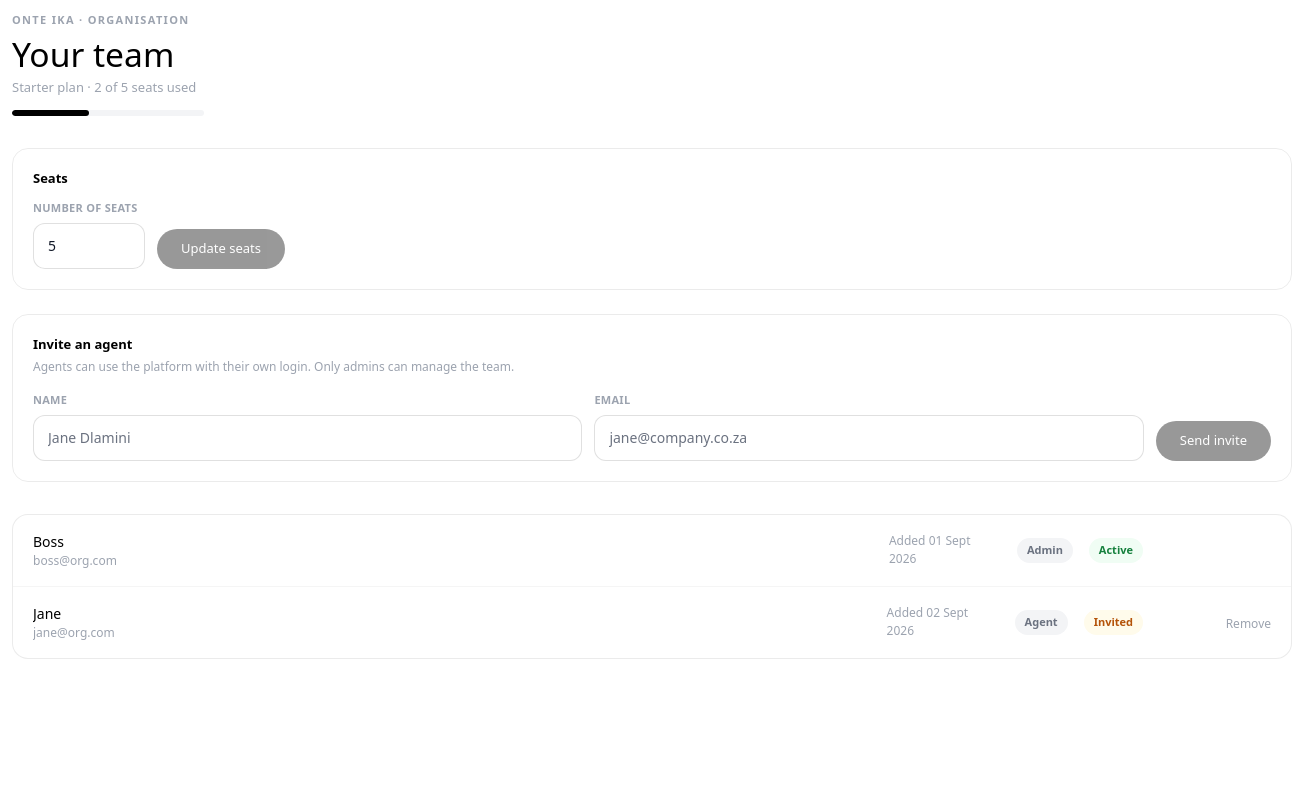
it: Team page › on the paid plan › shows the server's reason when a seat change is refused
Step 1. Replace the text in the number field labelled "Number of seats" with "6" → (89, 246), box [33,223,145,269]
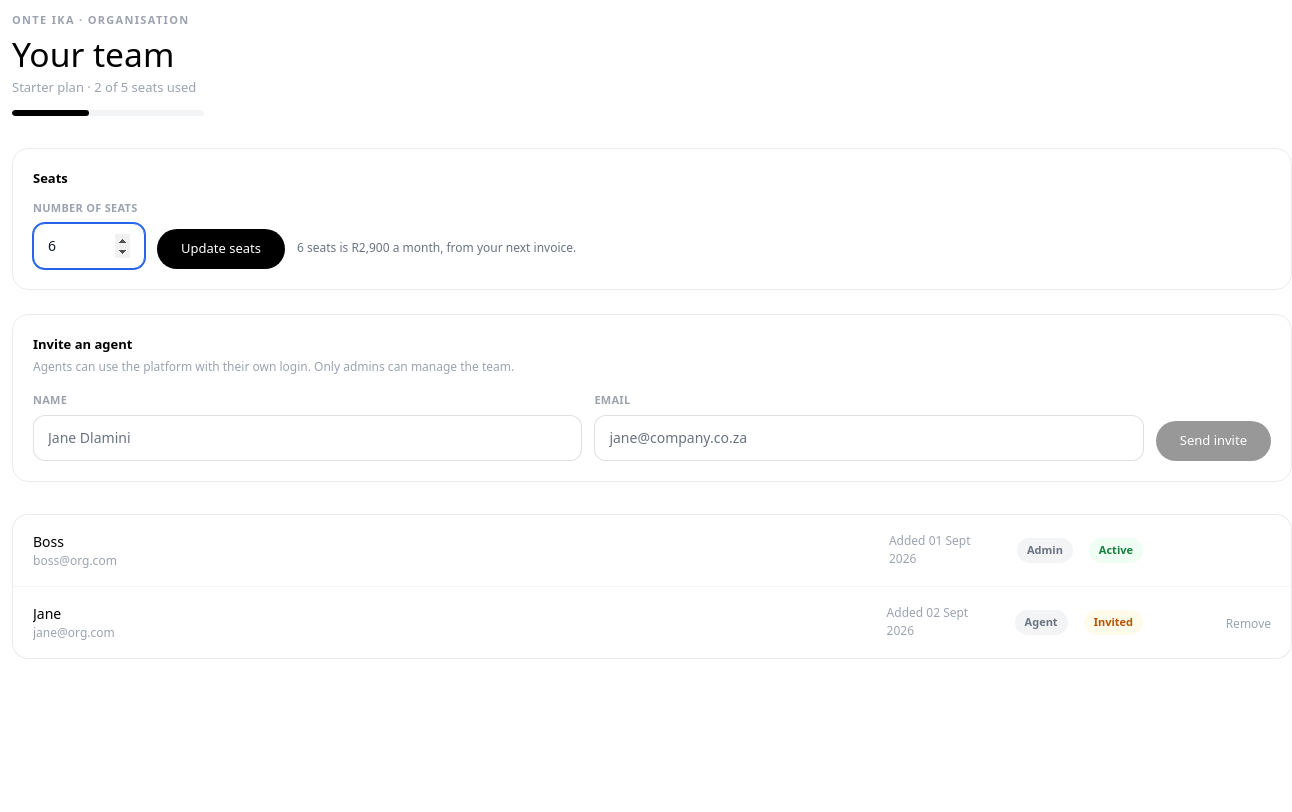
Step 2. Click the button "Update seats" → (221, 249), box [157,230,285,269]
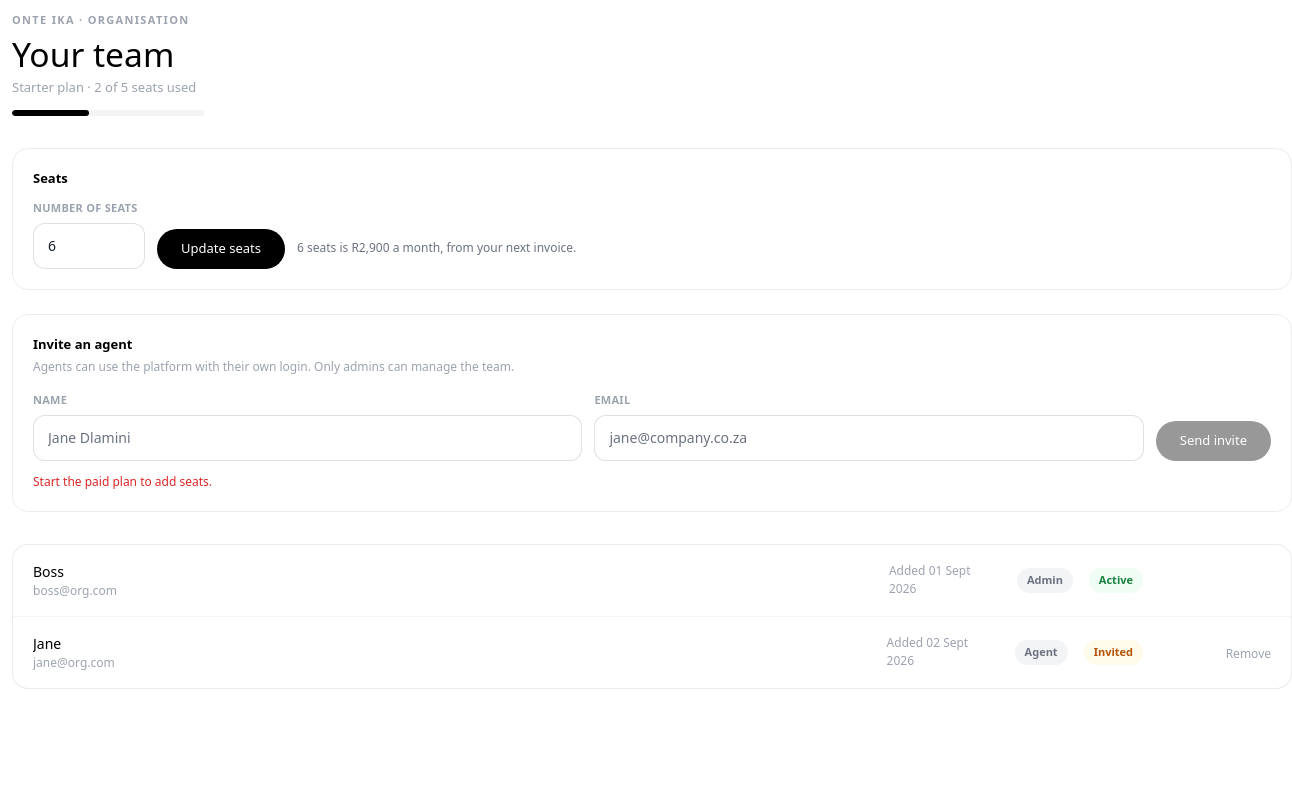
Expected: the message reads "Start the paid plan to add seats.", [33,473,212,490]
